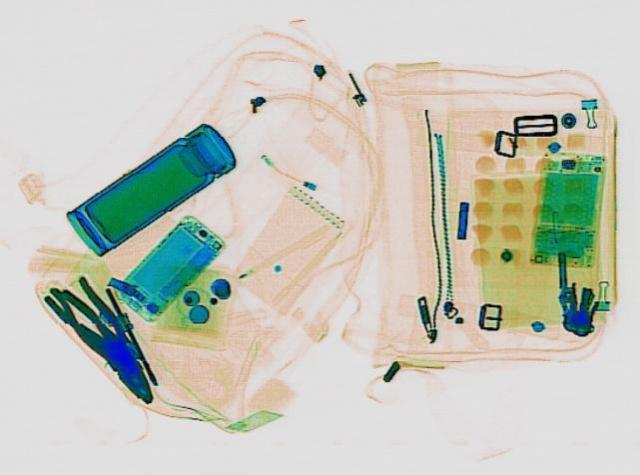Pliers: (42, 273, 170, 407)
